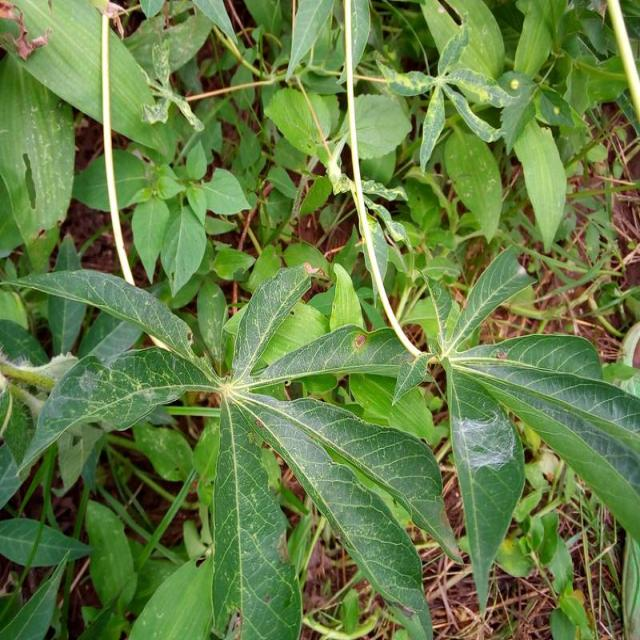cassava leaf: (0, 1, 638, 638), (5, 259, 459, 638)
